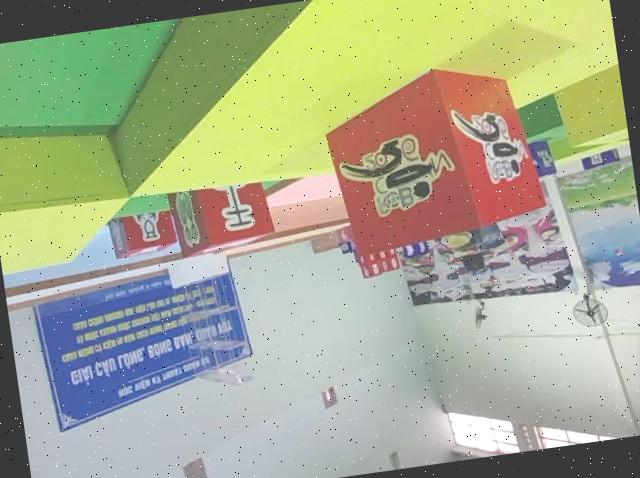R1: (315, 53, 553, 262)
R2 Fake: (165, 171, 280, 264)
R2 Real: (102, 200, 179, 262)
